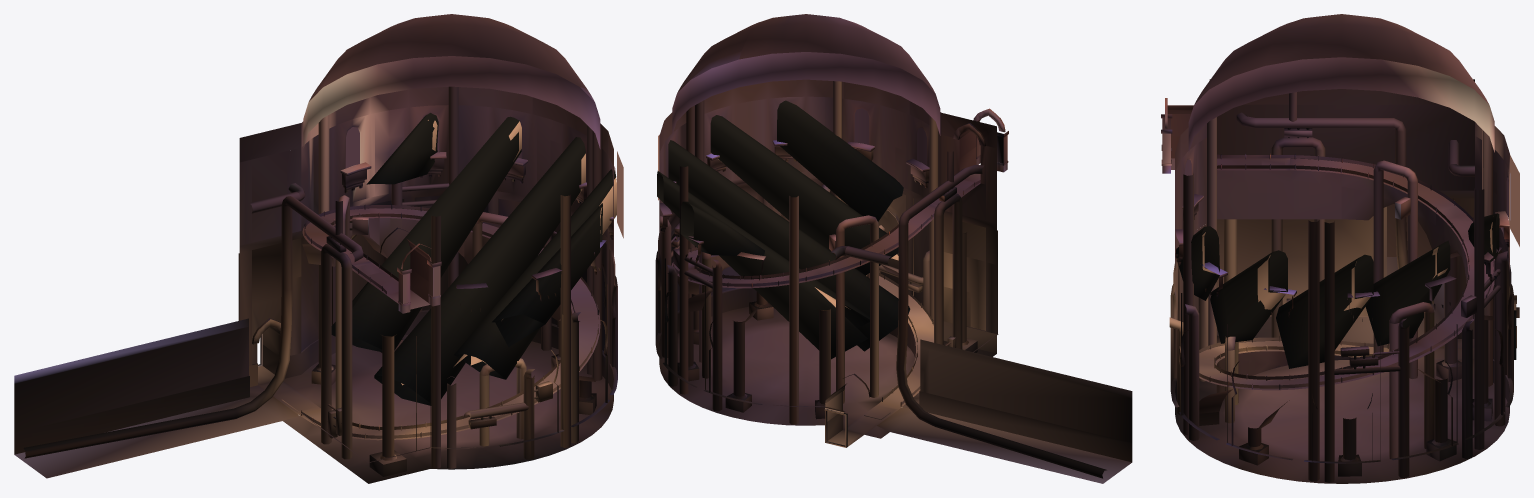
The model's file is 11Spiral.gltf.
3 renders of one model, left to right at view 1: azimuth 30°, elevation 25°; view 2: azimuth 150°, elevation 25°; view 3: azimuth 270°, elevation 25°, orthographic. The views are drawn at different scales.
Visible parts, largest first — view 1: stg033_g36_Mesh_0000, stg033_o36_Mesh_0001, stg033_o36_Mesh_0025, stg033_o36_Mesh_0032, stg033_o36_Mesh_0011, stg033_o36_Mesh_0034, stg033_o36_Mesh_0015, stg033_o36_Mesh_0007, stg033_o36_Mesh_0006, stg033_o36_Mesh_0021, stg033_o36_Mesh_0040, stg033_o36_Mesh_0005 (+15 smaller); view 2: stg033_g36_Mesh_0000, stg033_o36_Mesh_0025, stg033_o36_Mesh_0001, stg033_o36_Mesh_0032, stg033_o36_Mesh_0011, stg033_o36_Mesh_0034, stg033_o36_Mesh_0015, stg033_o36_Mesh_0007, stg033_o36_Mesh_0006, stg033_o36_Mesh_0021, stg033_o36_Mesh_0004, stg033_o36_Mesh_0005 (+15 smaller); view 3: stg033_o36_Mesh_0025, stg033_o36_Mesh_0001, stg033_g36_Mesh_0000, stg033_o36_Mesh_0011, stg033_o36_Mesh_0015, stg033_o36_Mesh_0005, stg033_o36_Mesh_0007, stg033_o36_Mesh_0040, stg033_o36_Mesh_0004, stg033_p36_Mesh_0001, stg033_o36_Mesh_0024, stg033_o36_Mesh_0034 (+17 smaller).
Boxes of the visible parts, x1=… form: stg033_g36_Mesh_0000: x1=331, y1=113, x2=616, y2=405; stg033_o36_Mesh_0001: x1=239, y1=87, x2=617, y2=483; stg033_o36_Mesh_0025: x1=23, y1=86, x2=602, y2=468; stg033_o36_Mesh_0032: x1=14, y1=329, x2=239, y2=432; stg033_o36_Mesh_0011: x1=252, y1=56, x2=600, y2=344; stg033_o36_Mesh_0034: x1=14, y1=247, x2=548, y2=478; stg033_o36_Mesh_0015: x1=309, y1=14, x2=594, y2=101; stg033_o36_Mesh_0007: x1=252, y1=108, x2=617, y2=377; stg033_o36_Mesh_0006: x1=14, y1=268, x2=613, y2=454; stg033_o36_Mesh_0021: x1=239, y1=113, x2=609, y2=448; stg033_o36_Mesh_0040: x1=302, y1=208, x2=600, y2=440; stg033_o36_Mesh_0005: x1=301, y1=334, x2=613, y2=457; stg033_g36_Mesh_0000: x1=657, y1=100, x2=910, y2=359; stg033_o36_Mesh_0025: x1=660, y1=81, x2=1106, y2=478; stg033_o36_Mesh_0001: x1=658, y1=79, x2=998, y2=416; stg033_o36_Mesh_0032: x1=929, y1=349, x2=1132, y2=442; stg033_o36_Mesh_0011: x1=672, y1=52, x2=1005, y2=397; stg033_o36_Mesh_0034: x1=722, y1=174, x2=1131, y2=483; stg033_o36_Mesh_0015: x1=677, y1=14, x2=935, y2=93; stg033_o36_Mesh_0007: x1=655, y1=97, x2=985, y2=342; stg033_o36_Mesh_0006: x1=659, y1=147, x2=1132, y2=462; stg033_o36_Mesh_0021: x1=663, y1=98, x2=996, y2=408; stg033_o36_Mesh_0004: x1=745, y1=337, x2=869, y2=390; stg033_o36_Mesh_0005: x1=659, y1=306, x2=915, y2=425; stg033_o36_Mesh_0025: x1=1169, y1=92, x2=1507, y2=482; stg033_o36_Mesh_0001: x1=1170, y1=79, x2=1509, y2=431; stg033_g36_Mesh_0000: x1=1175, y1=213, x2=1499, y2=368; stg033_o36_Mesh_0011: x1=1165, y1=57, x2=1494, y2=152; stg033_o36_Mesh_0015: x1=1194, y1=14, x2=1488, y2=104; stg033_o36_Mesh_0005: x1=1181, y1=370, x2=1509, y2=483; stg033_o36_Mesh_0007: x1=1170, y1=105, x2=1513, y2=389; stg033_o36_Mesh_0040: x1=1199, y1=159, x2=1494, y2=390; stg033_o36_Mesh_0004: x1=1270, y1=382, x2=1413, y2=443; stg033_p36_Mesh_0001: x1=1199, y1=154, x2=1493, y2=388; stg033_o36_Mesh_0024: x1=1224, y1=219, x2=1488, y2=460; stg033_o36_Mesh_0034: x1=1171, y1=159, x2=1474, y2=455.
Bounding box in the file's own units: 90.53 × 59.95 × 51.35.
